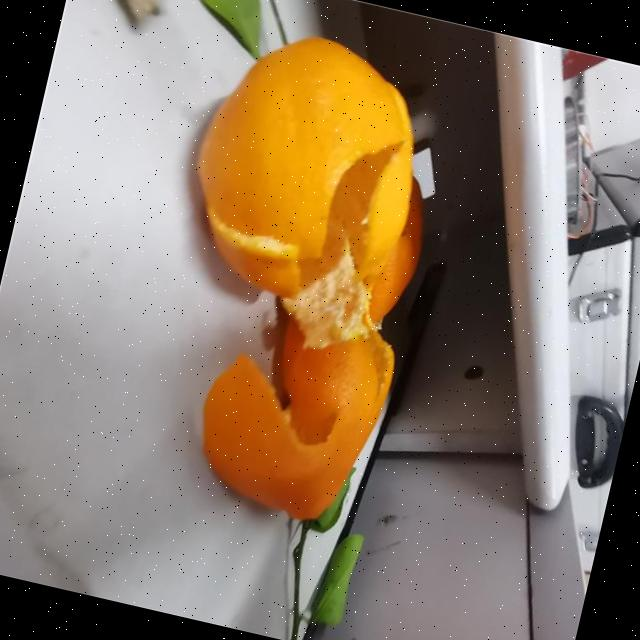orange-peel: (120, 14, 467, 534), (169, 13, 443, 320), (182, 288, 403, 532)
